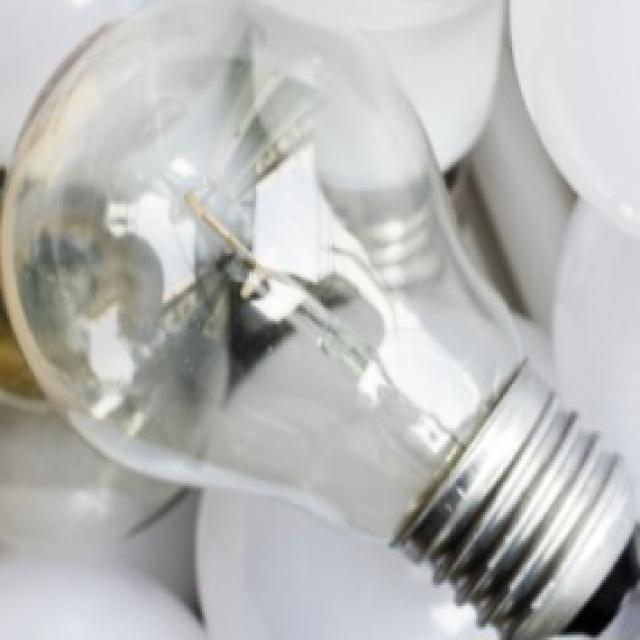bulb: (5, 0, 640, 620)
